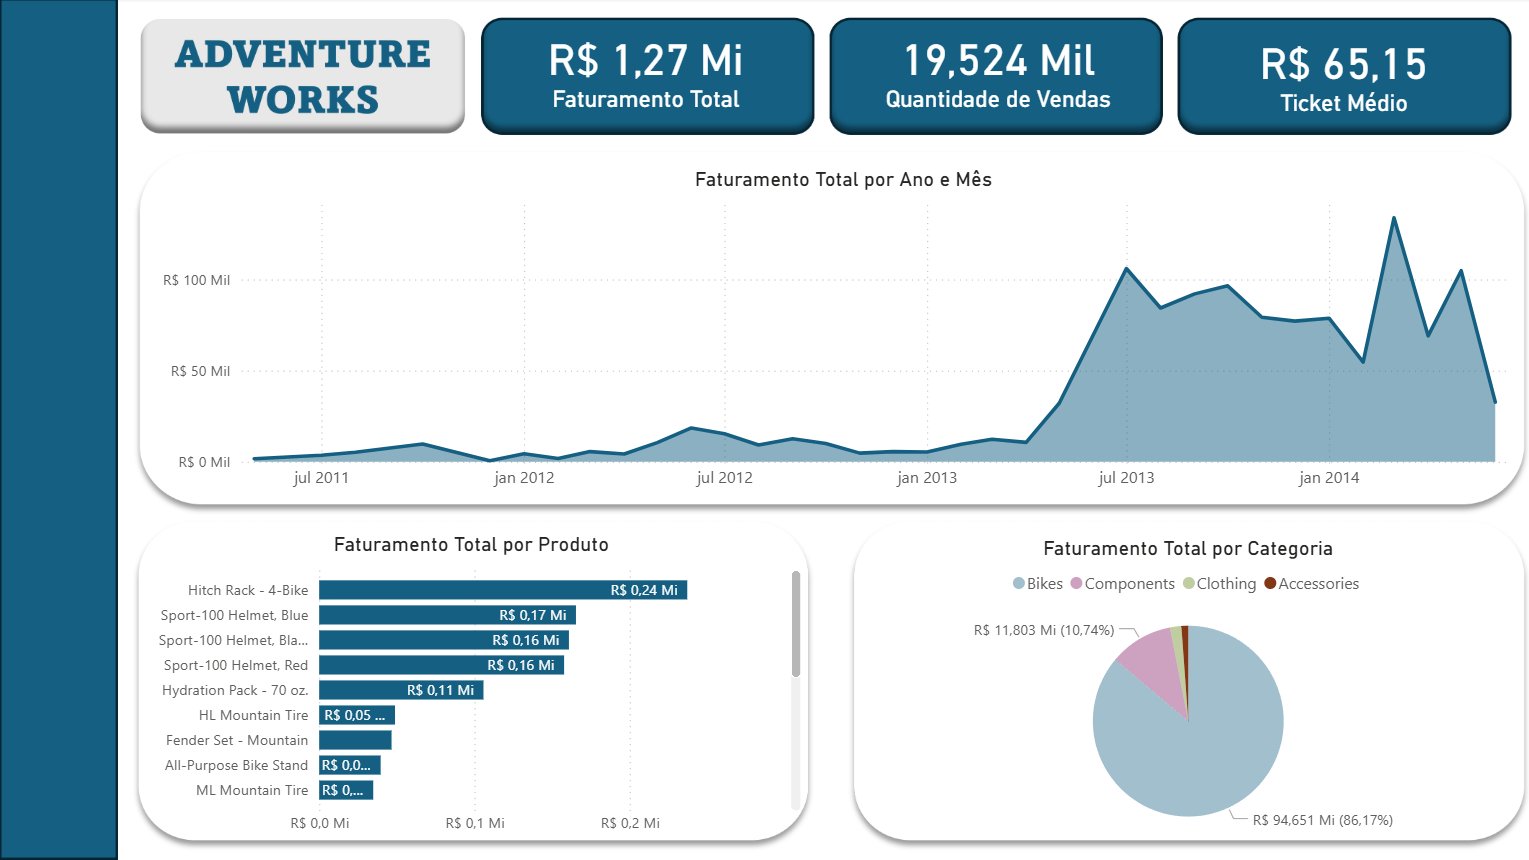

What the dashboard file says about the page in this screenshot:
{"tool":"powerbi","page":{"name":"Página 1","canvas":[1280,720],"ordinal":0},"visuals":[{"type":"cardVisual","fields":{"Data":["F_Venda.Faturamento Total"]},"box":[396.8,0,287.9,124.5],"z":0},{"type":"cardVisual","fields":{"Data":["F_Venda.Quantidade de Vendas"]},"box":[694.5,0,281.1,124.5],"z":1000},{"type":"cardVisual","fields":{"Data":["F_Venda.Ticket Médio"]},"box":[984.3,8.8,279.1,115.7],"z":2000},{"type":"lineChart","fields":{"Y":["F_Venda.Faturamento Total"],"Category":["D_Calendario.data.Variation.Hierarquia de datas.Ano","D_Calendario.data.Variation.Hierarquia de datas.Mês"]},"box":[131.3,141,1148.7,277.2],"z":3000},{"type":"clusteredBarChart","title":"Faturamento Total por Produto","fields":{"Y":["F_Venda.Faturamento Total"],"Category":["D_Produto.nome"]},"box":[114.8,446.4,560.2,261.6],"z":4000},{"type":"pieChart","title":"Faturamento Total por Categoria","fields":{"Category":["D_Produto.categoria"],"Y":["F_Venda.Faturamento Total"]},"box":[711,449.4,565.1,261.6],"z":5000}]}

Visuals, with their boxes in screenshot pixels (x1, y1, x2, y2), scaled from the page's 1280x720 canvas onto the 1529x860 screenshot:
cardVisual - F_Venda.Faturamento Total: {"x1": 474, "y1": 0, "x2": 818, "y2": 149}
cardVisual - F_Venda.Quantidade de Vendas: {"x1": 830, "y1": 0, "x2": 1165, "y2": 149}
cardVisual - F_Venda.Ticket Médio: {"x1": 1176, "y1": 11, "x2": 1509, "y2": 149}
lineChart - F_Venda.Faturamento Total x D_Calendario.data.Variation.Hierarquia de datas.Ano: {"x1": 157, "y1": 168, "x2": 1528, "y2": 500}
"Faturamento Total por Produto" clusteredBarChart: {"x1": 137, "y1": 533, "x2": 806, "y2": 846}
"Faturamento Total por Categoria" pieChart: {"x1": 849, "y1": 537, "x2": 1524, "y2": 849}
